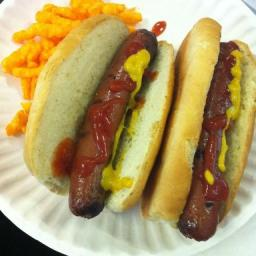hotdog: (55, 26, 156, 216), (178, 43, 246, 243)
